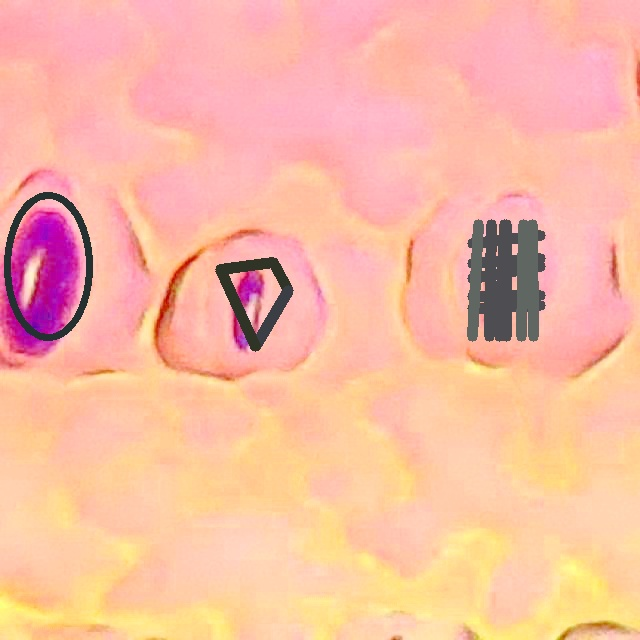open: (3, 191, 92, 340), (467, 219, 544, 340), (216, 258, 293, 350)
